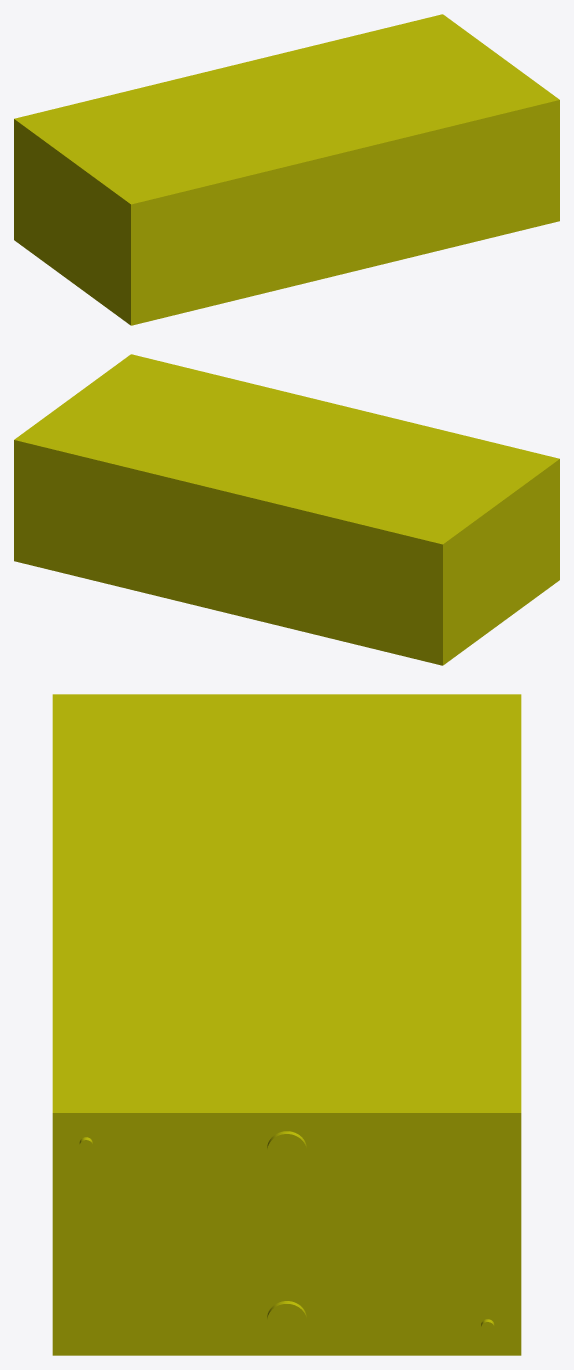
File: WATER_HEATING SYSTEMS__TANKS__holding tank 25 gal TOD 85-1532WH.glb
3 renders of one model, top to bottom at view 1: azimuth 30°, elevation 25°; view 2: azimuth 150°, elevation 25°; view 3: azimuth 270°, elevation 25°, orthographic. The views are drawn at different scales.
Visible parts, largest first — view 1: holding tank 25 gal TOD 85-1532WH; view 2: holding tank 25 gal TOD 85-1532WH; view 3: holding tank 25 gal TOD 85-1532WH.
Boxes of the visible parts, bbox=[...] form: holding tank 25 gal TOD 85-1532WH: bbox=[14, 14, 559, 325]; holding tank 25 gal TOD 85-1532WH: bbox=[14, 354, 559, 665]; holding tank 25 gal TOD 85-1532WH: bbox=[52, 694, 521, 1355].
Size of the model in its own units: 0.9462 by 0.254 by 0.4445.
